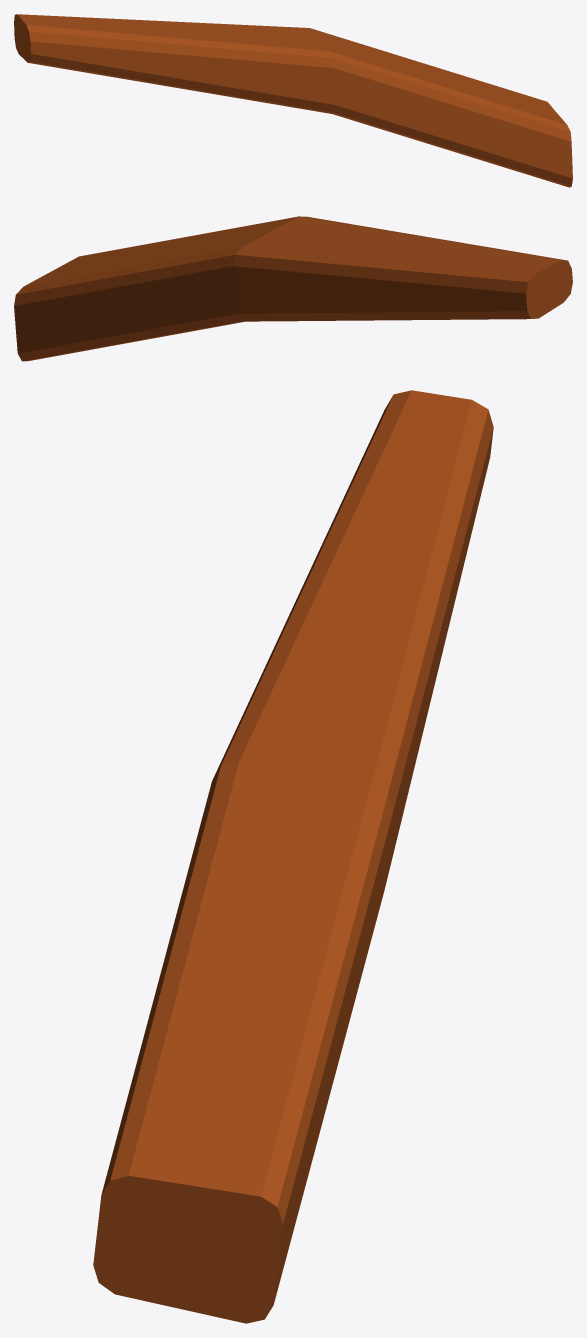
Rendered from agac_dal1.fbx.
3 renders of one model, top to bottom at view 1: azimuth 30°, elevation 25°; view 2: azimuth 150°, elevation 25°; view 3: azimuth 270°, elevation 25°, orthographic. The views are drawn at different scales.
Visible parts, largest first — view 1: Cylinder.010; view 2: Cylinder.010; view 3: Cylinder.010.
Part boxes in pixels (x1=…): Cylinder.010: x1=14, y1=14, x2=572, y2=187; Cylinder.010: x1=14, y1=216, x2=572, y2=361; Cylinder.010: x1=93, y1=390, x2=493, y2=1323.
Size of the model in its own units: 5.42 by 2.45 by 1.92.
